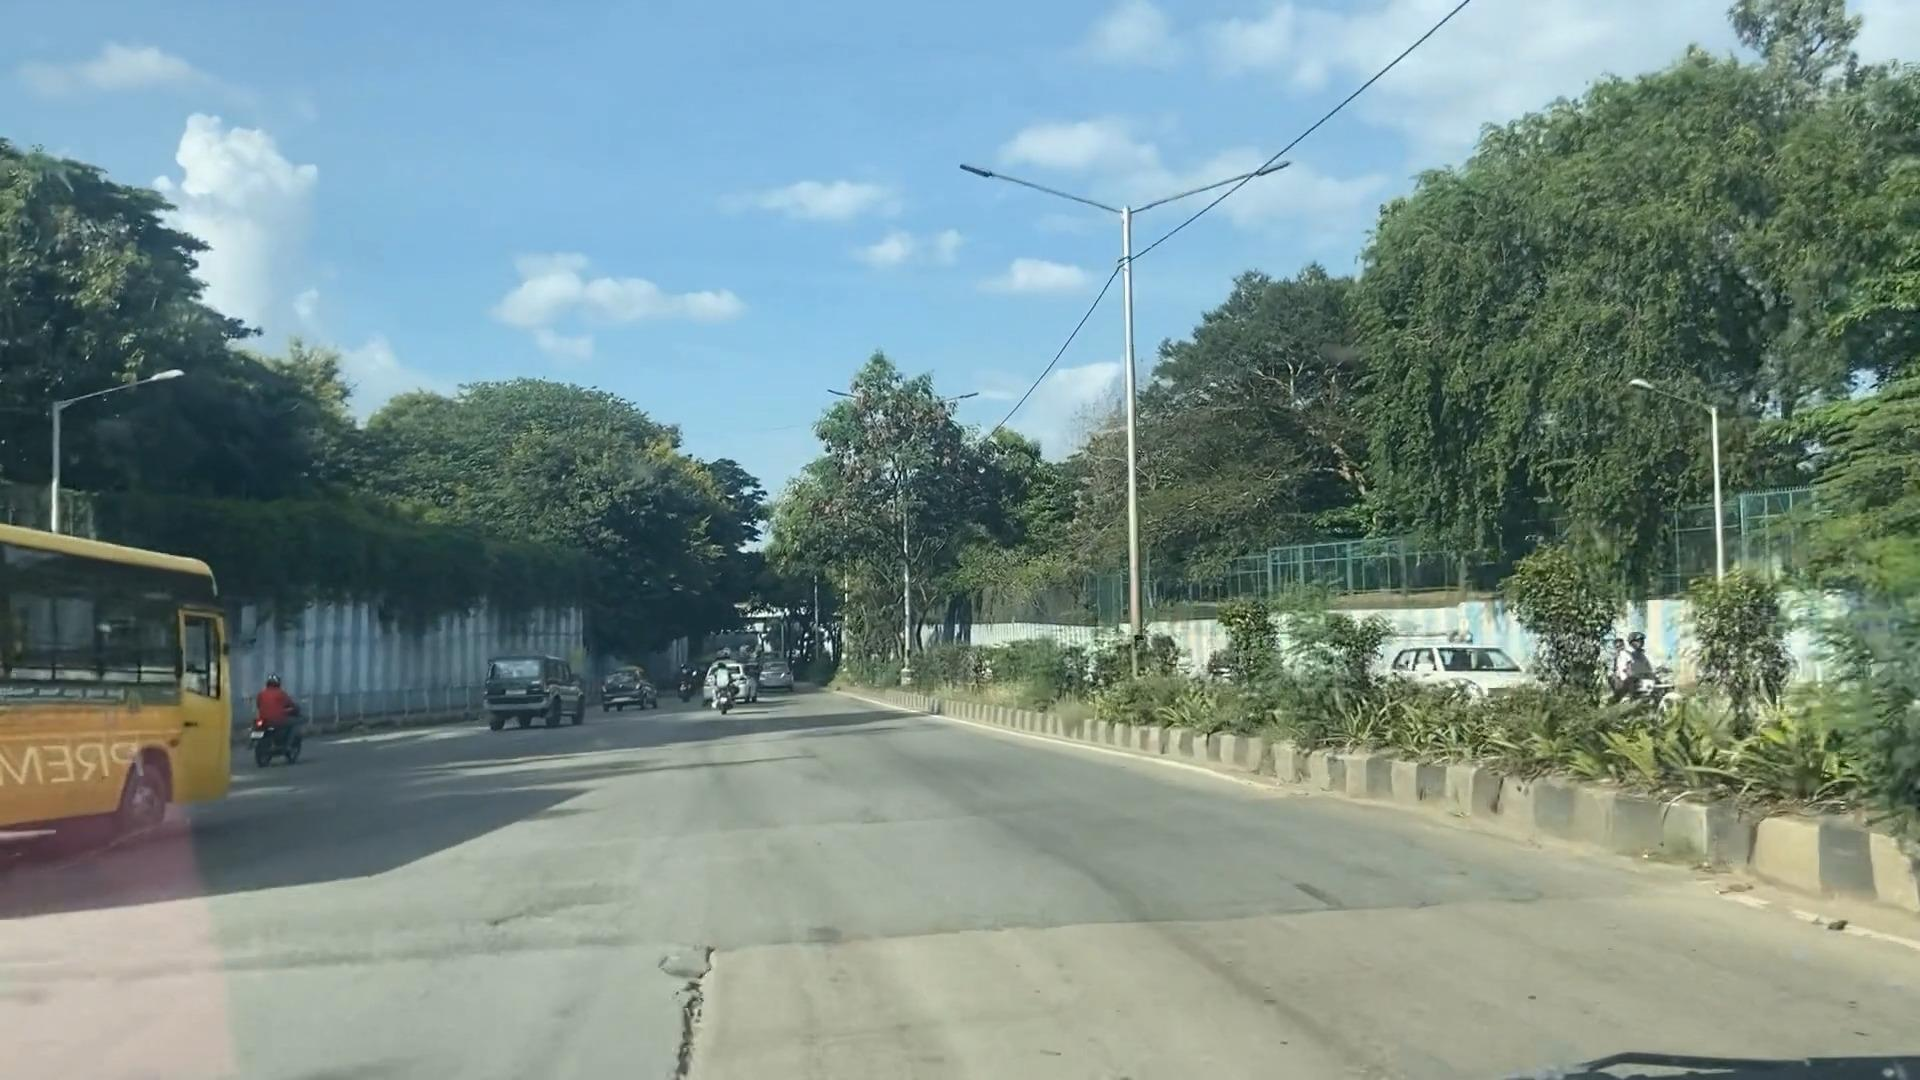RoadDamages: (566, 935, 740, 1072)
